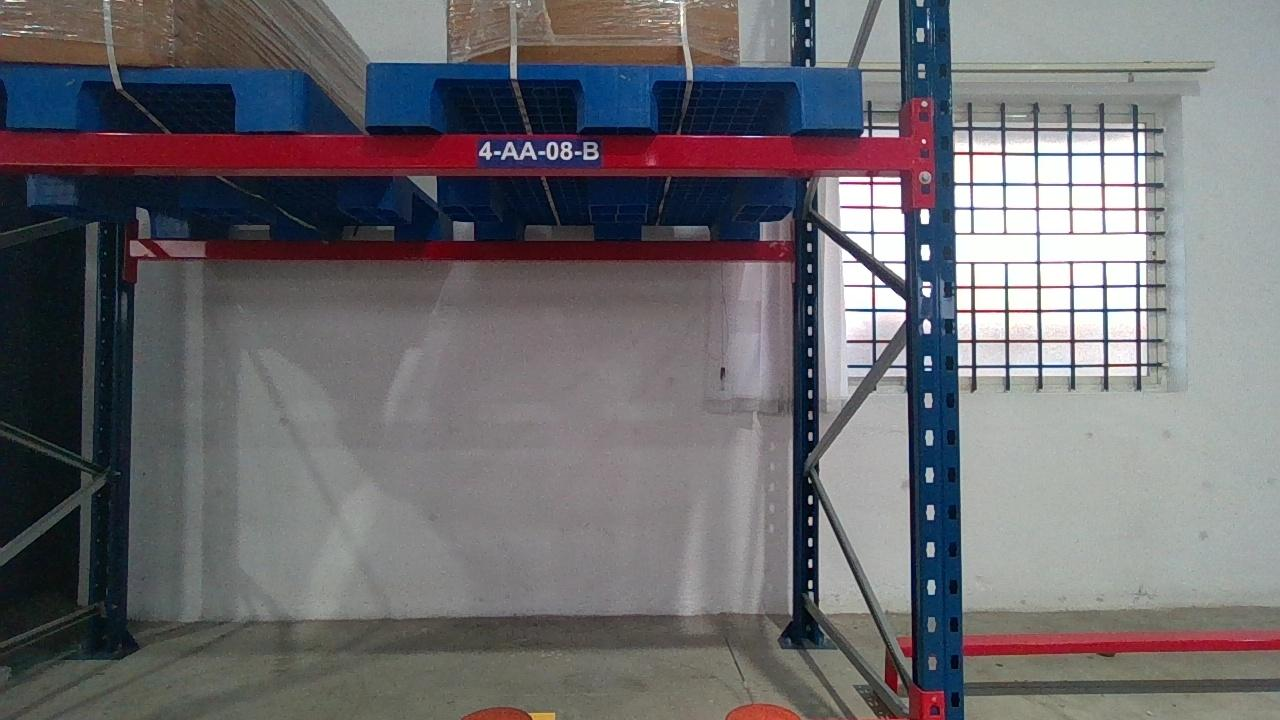h_rack: (0, 129, 915, 169)
small_pallet: (365, 60, 871, 128), (0, 65, 303, 127)
